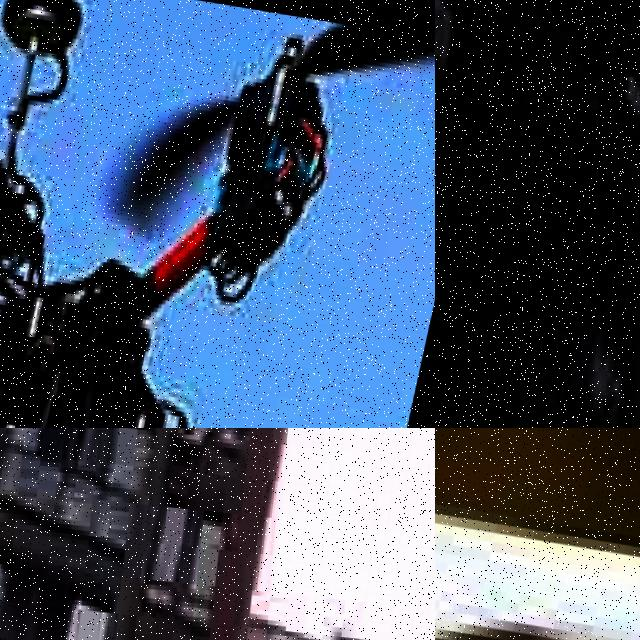drone: (0, 0, 435, 428), (435, 428, 640, 640)
